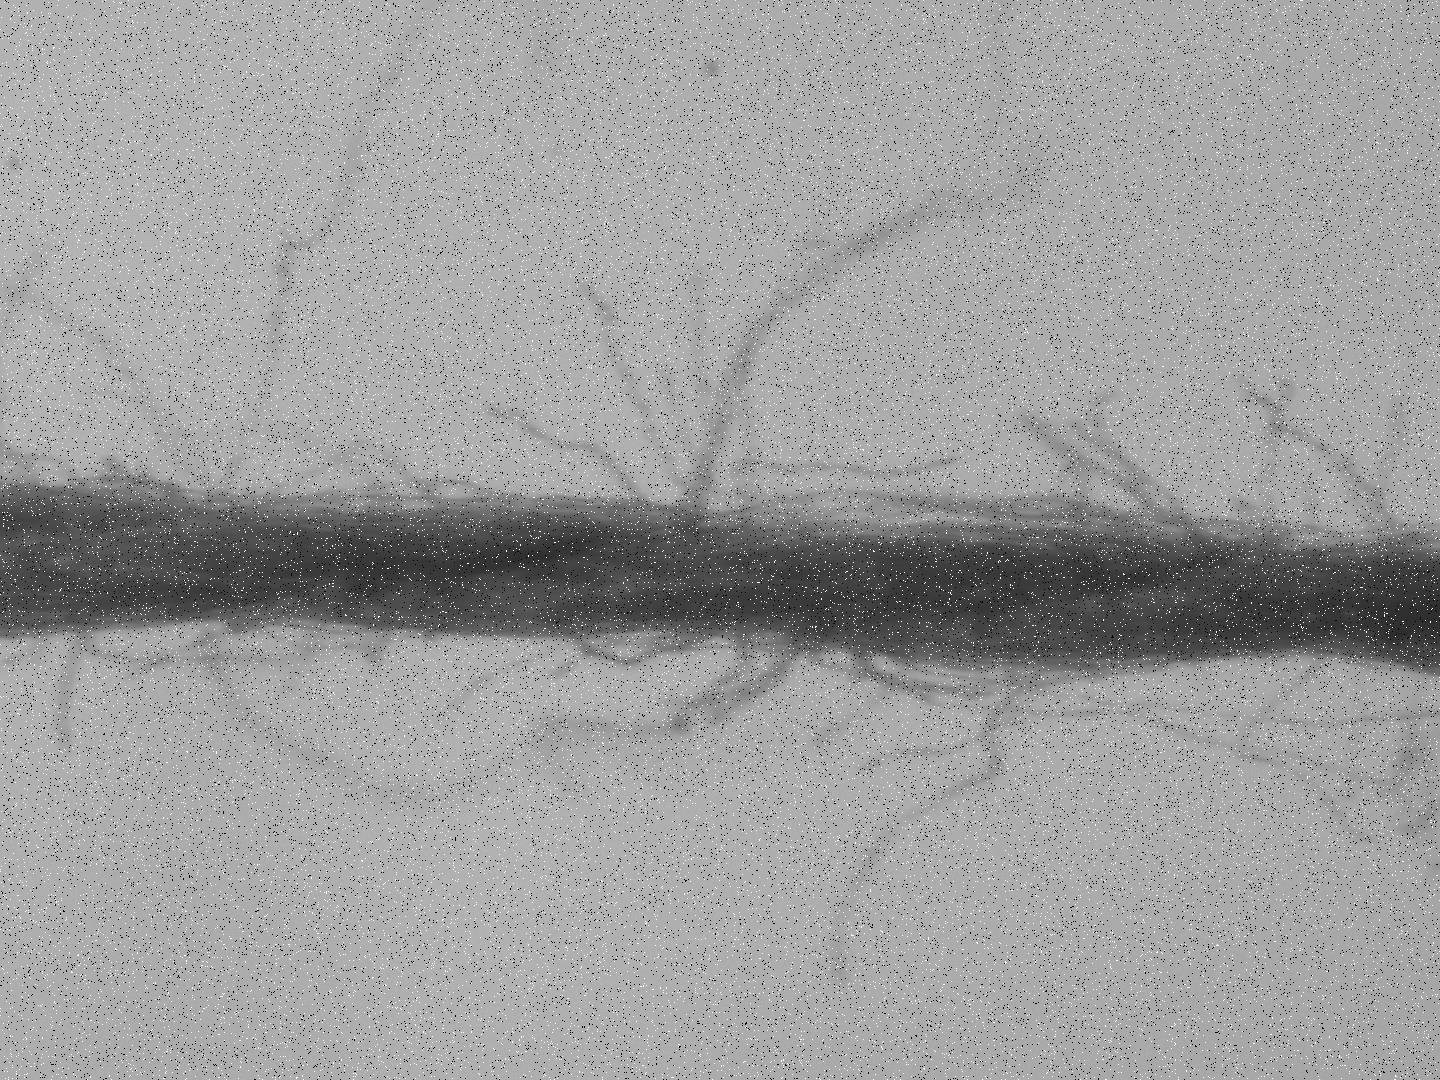protruding_fiber: (215, 2, 449, 511), (832, 664, 1025, 1002)
